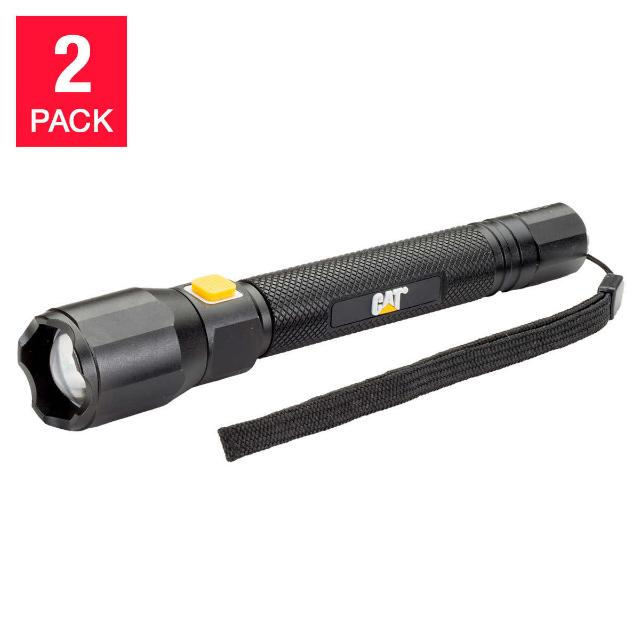Flashlight: (0, 196, 640, 470)
